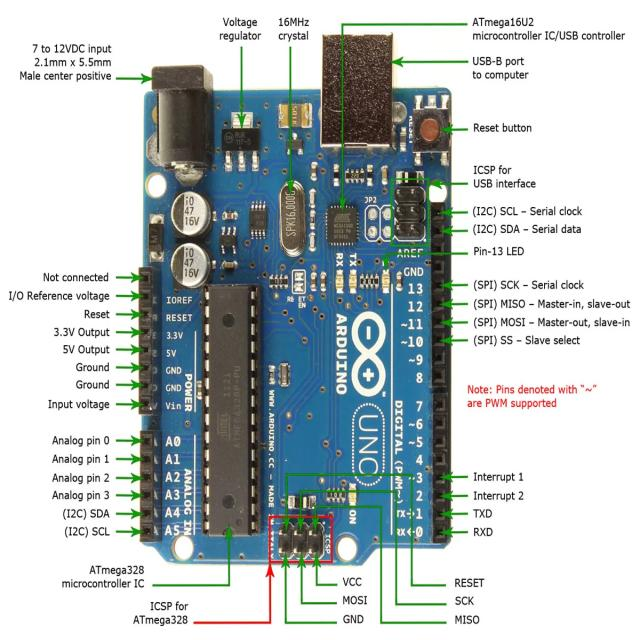Arduino: (130, 26, 456, 578)
